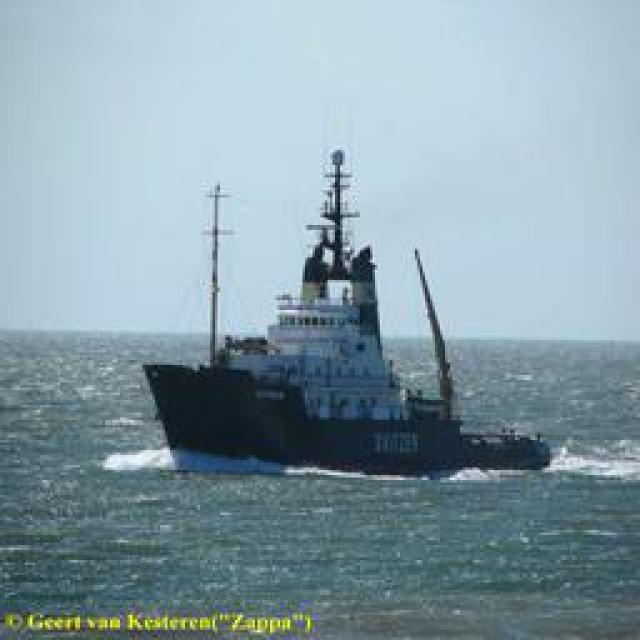Ship: (134, 139, 559, 479)
